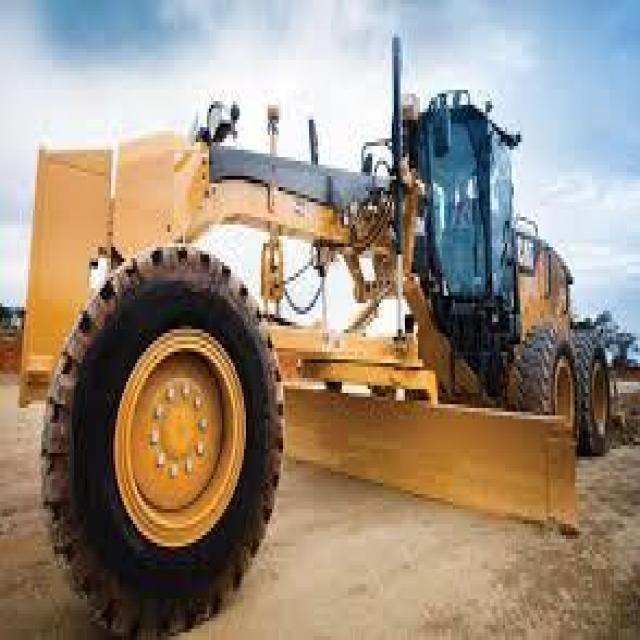Grader: (20, 45, 638, 625)
